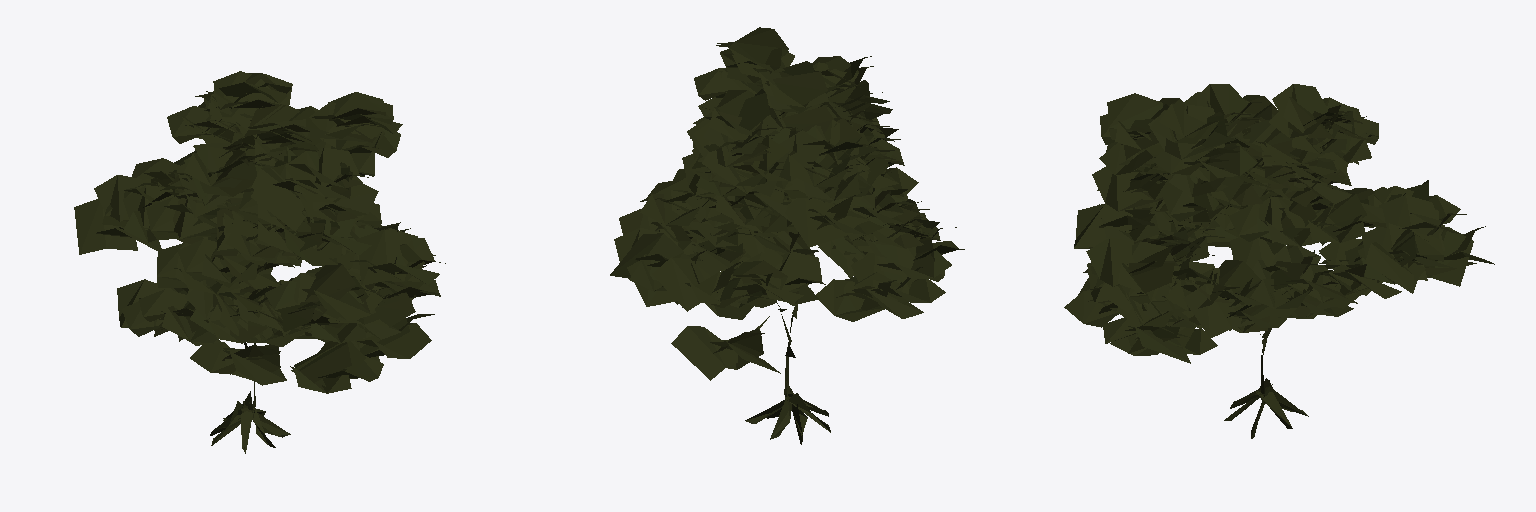
The model's file is trees9_8.obj.
3 views of the same model, side by side, from view 1: azimuth 30°, elevation 25°; view 2: azimuth 150°, elevation 25°; view 3: azimuth 270°, elevation 25° (orthographic).
Parts seen in each view (by area): view 1: Sonnerat; view 2: Sonnerat; view 3: Sonnerat.
Part boxes in pixels (left/top/right/bottom): Sonnerat: left=74, top=71, right=445, bottom=453; Sonnerat: left=610, top=27, right=964, bottom=444; Sonnerat: left=1064, top=84, right=1494, bottom=438.
Bounding box in the file's own units: 3.35 × 3.81 × 4.24.